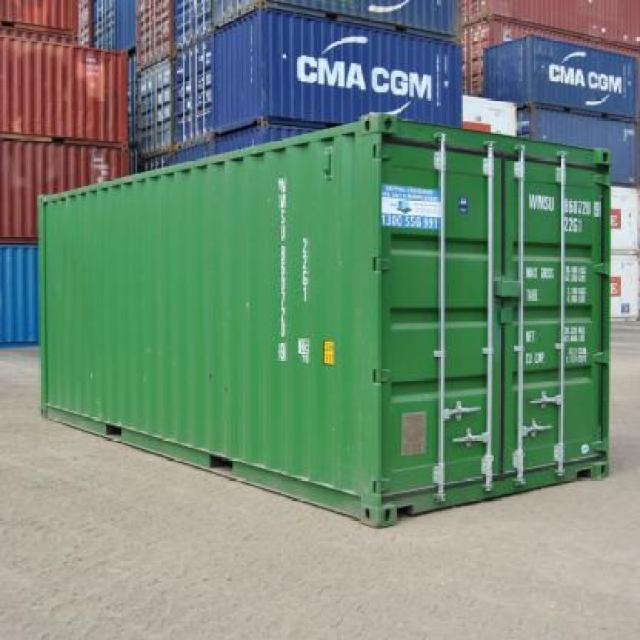ISO: (565, 216, 584, 232)
container_number: (305, 68, 442, 99), (528, 193, 640, 216)
